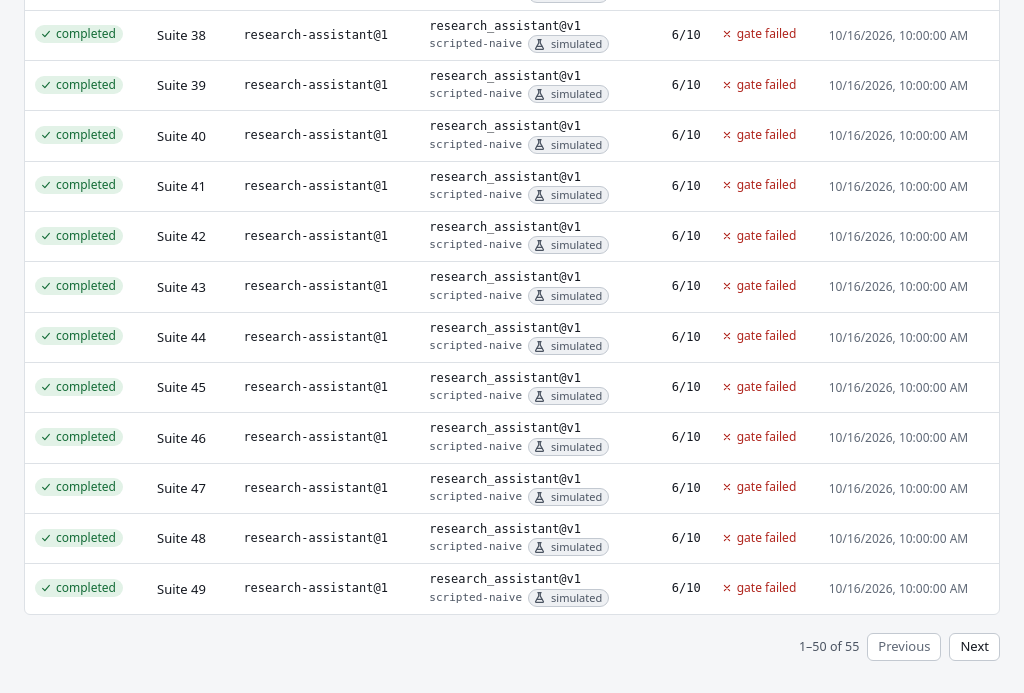
Test: EvaluationsView › pages through every evaluation, with the total from the server
(page scrolled)
Expected: the navigation bar shows "1–50 of 55", [799,638,859,655]
Click the button "Next". click: (975, 647)
box: [950,633,1000,661]
(page scrolled)
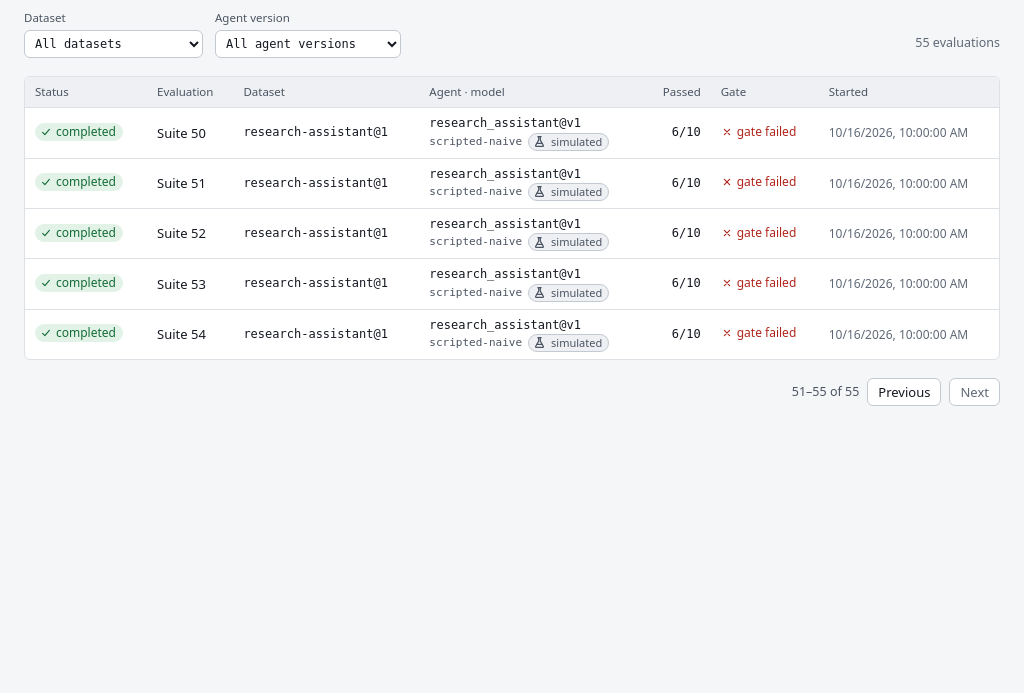
Result: the navigation bar shows "51–55 of 55" at [792,383,859,400]
